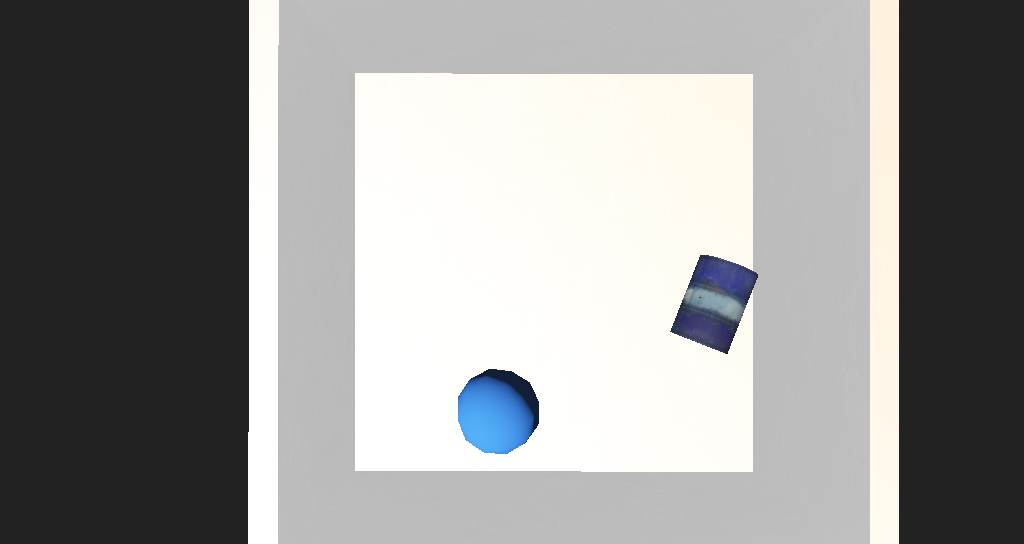cone: (589, 260, 664, 313)
cylinder: (596, 2, 697, 74)
sphere: (435, 322, 495, 365)
